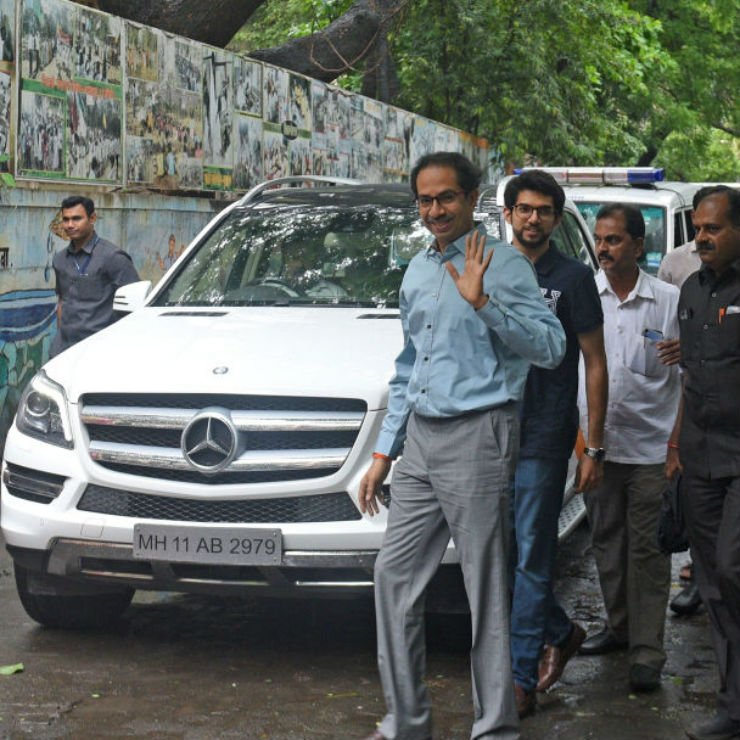numberplate: (131, 517, 286, 567)
